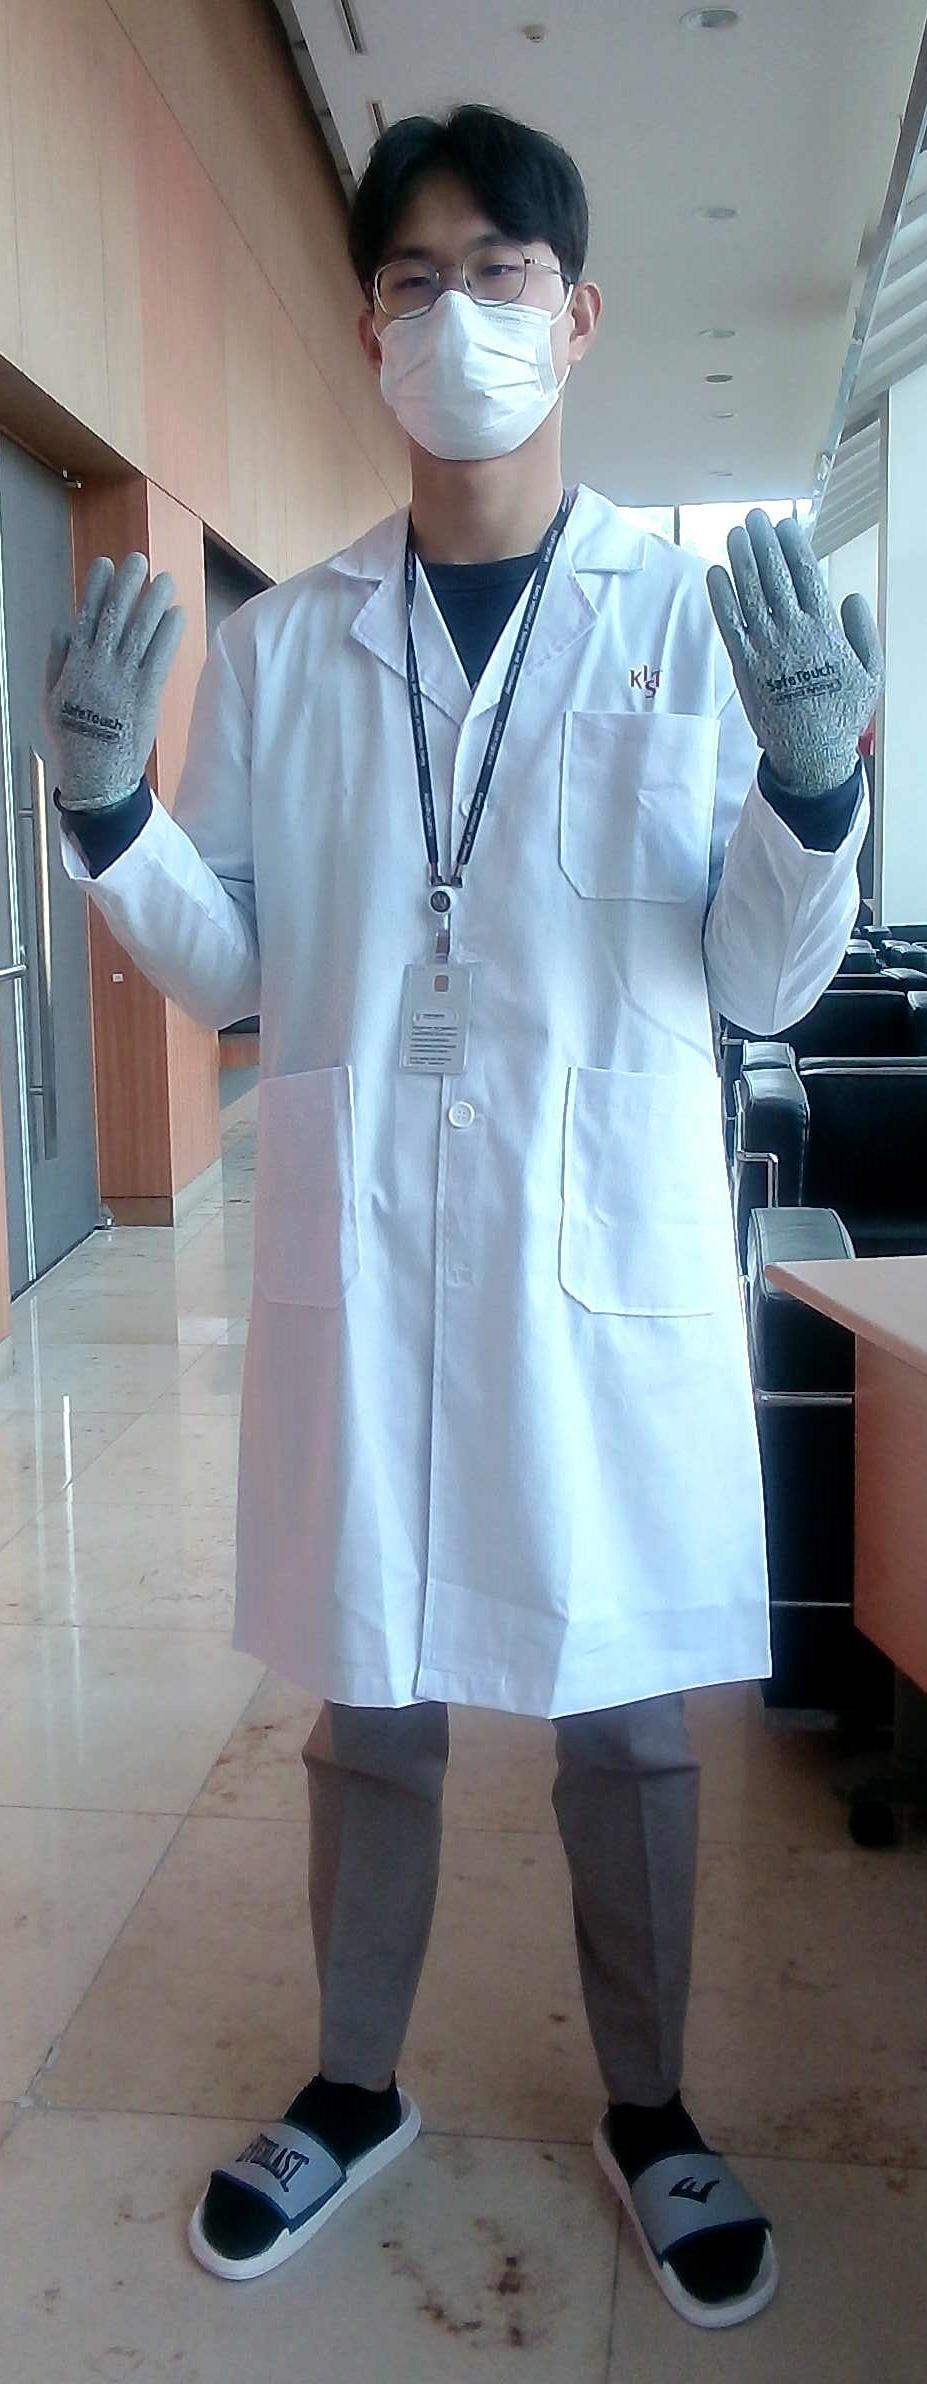lab_coat: (195, 526, 707, 1695)
